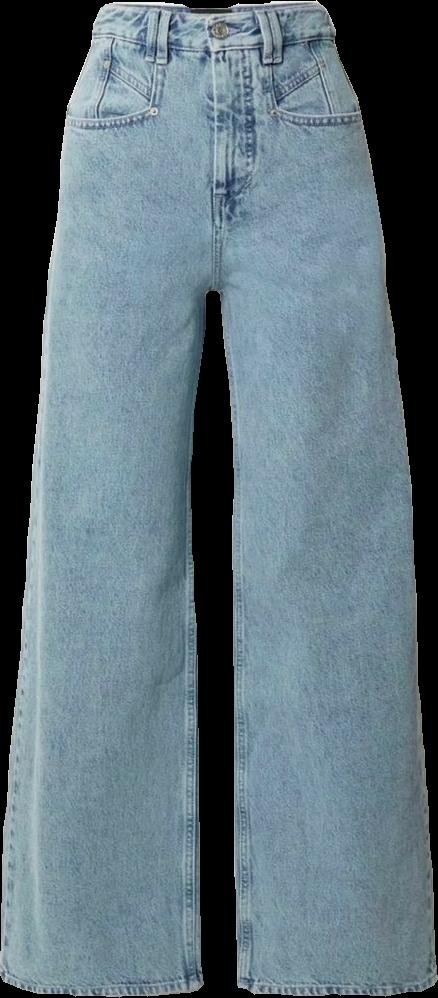Hemline: (232, 964, 437, 996), (0, 969, 206, 996)
Pantleg: (208, 0, 436, 994), (0, 3, 214, 995)
Waistline: (89, 30, 339, 59), (96, 0, 318, 19)
